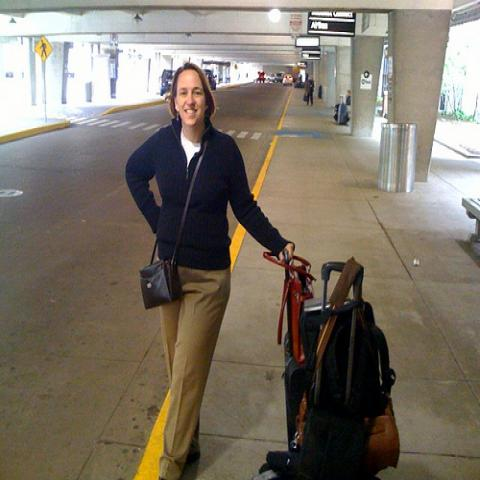car: (159, 68, 177, 96), (202, 68, 218, 92), (282, 74, 293, 86), (266, 73, 278, 83), (256, 72, 266, 84), (276, 72, 284, 83)
